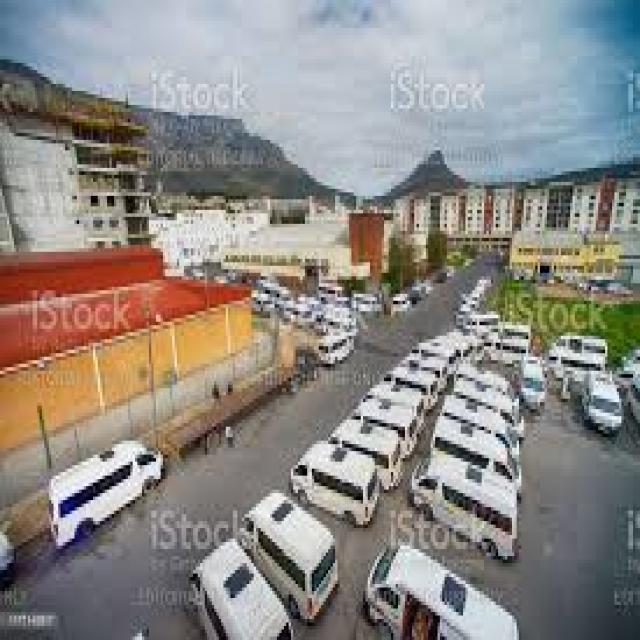MiniBus taxi: (42, 423, 193, 549), (405, 451, 514, 577), (291, 434, 384, 528), (577, 364, 626, 441)
